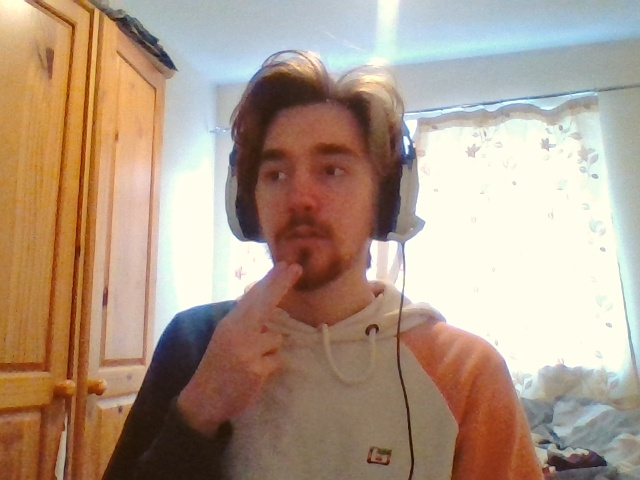afternoon: (204, 261, 303, 402)
